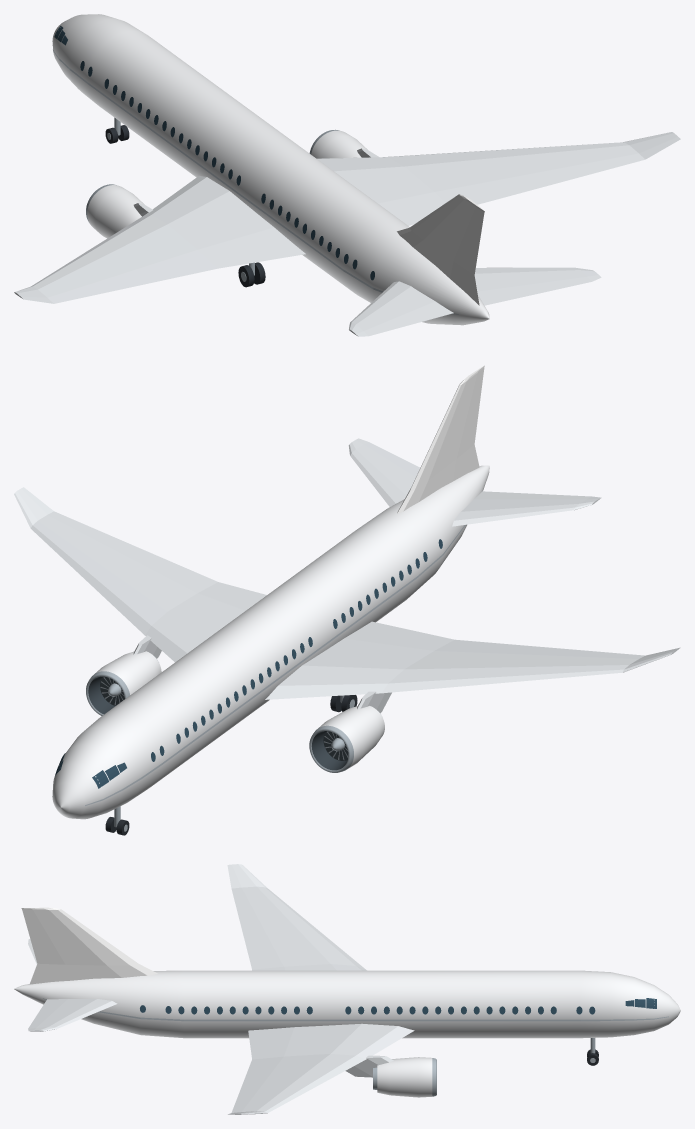
File: small_jet.glb
The picture shows the model from 3 angles, top to bottom: view 1: azimuth 30°, elevation 25°; view 2: azimuth 150°, elevation 25°; view 3: azimuth 270°, elevation 25°; orthographic projection. The views are drawn at different scales.
Visible parts, largest first — view 1: Fuselage, Wings, Tail, Engines, Windows, Gear, Stripe; view 2: Fuselage, Wings, Tail, Engines, Windows, Stripe, Gear; view 3: Fuselage, Wings, Tail, Engines, Windows, Stripe.
Part boxes in pixels (left/top/right/bottom): Fuselage: left=52, top=14, right=489, bottom=325; Wings: left=14, top=132, right=680, bottom=303; Tail: left=349, top=194, right=601, bottom=336; Engines: left=86, top=129, right=379, bottom=238; Windows: left=54, top=26, right=374, bottom=280; Gear: left=105, top=117, right=265, bottom=287; Stripe: left=53, top=50, right=458, bottom=314; Fuselage: left=52, top=465, right=489, bottom=819; Wings: left=14, top=487, right=680, bottom=699; Tail: left=348, top=365, right=601, bottom=526; Engines: left=86, top=635, right=391, bottom=772; Windows: left=54, top=539, right=442, bottom=788; Stripe: left=85, top=489, right=483, bottom=805; Gear: left=105, top=695, right=357, bottom=835; Fuselage: left=14, top=970, right=680, bottom=1038; Wings: left=227, top=864, right=414, bottom=1114; Tail: left=21, top=907, right=157, bottom=1031; Engines: left=345, top=1055, right=436, bottom=1097; Windows: left=140, top=998, right=656, bottom=1014; Stripe: left=43, top=998, right=668, bottom=1021.
Bounding box in the file's own units: 35.4 × 10.24 × 40.
